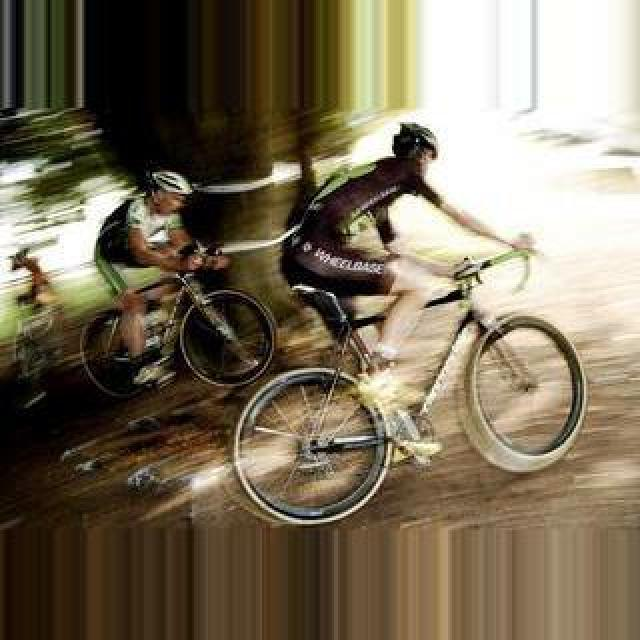MC-Bike: (294, 116, 550, 450), (100, 166, 222, 388)
Person: (232, 246, 600, 528), (80, 250, 276, 400)
